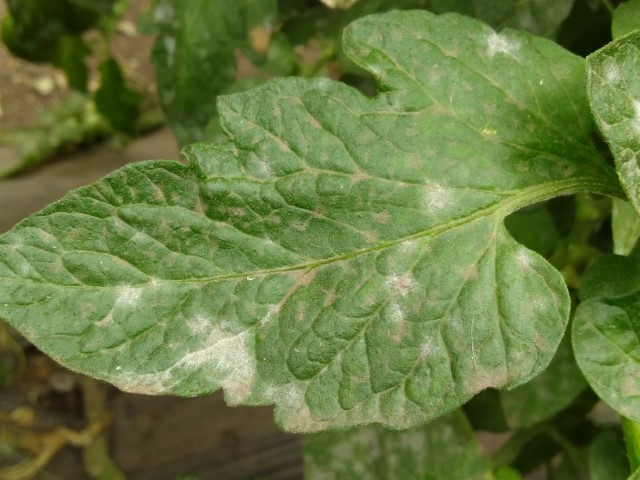blanca: (206, 325, 272, 393), (379, 272, 420, 319), (413, 175, 452, 217), (411, 335, 446, 367), (120, 272, 142, 314), (490, 30, 517, 57), (186, 311, 213, 335), (515, 247, 536, 275)
